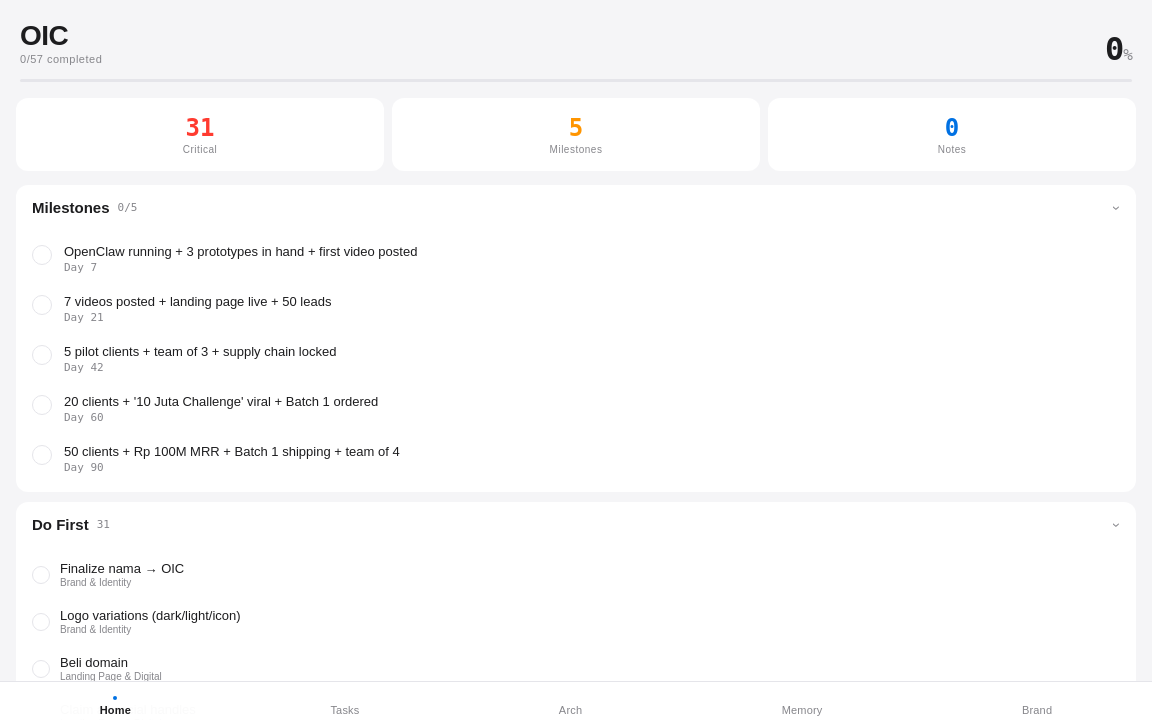
Test: App › switches to tasks tab on click
Click the button "Tasks" at (345,706), box [314, 692, 376, 719]
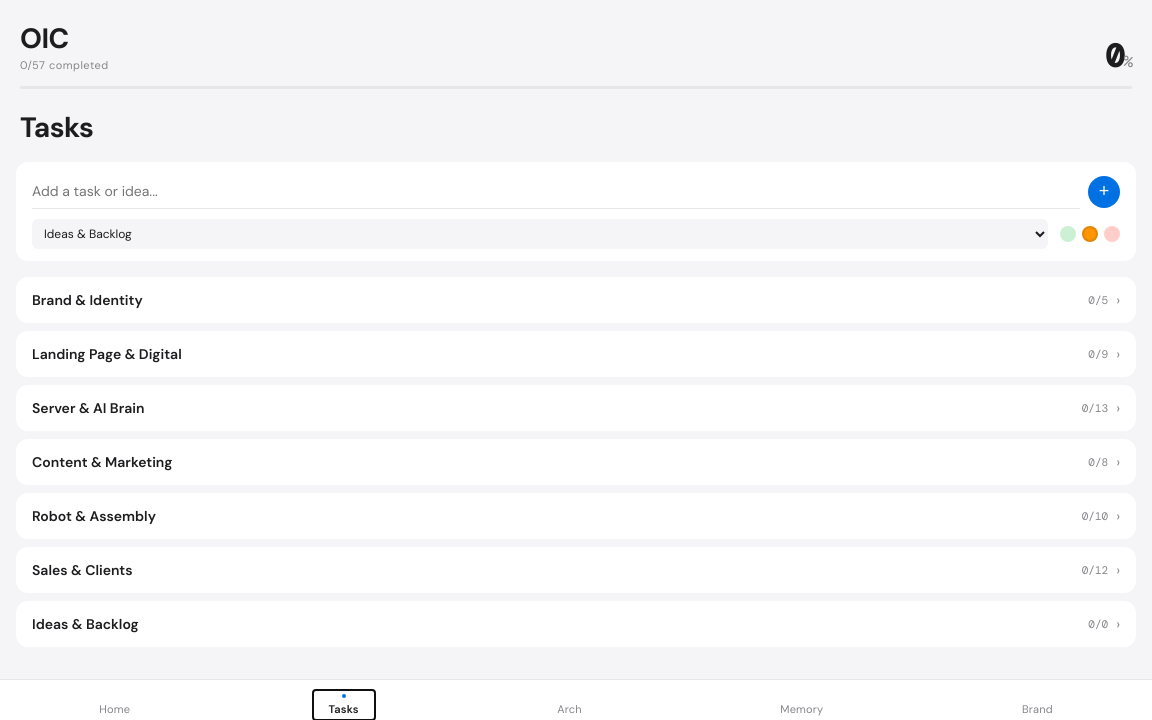
Result: the field with placeholder "Add a task or idea..." is shown at [32, 174, 1080, 209]
